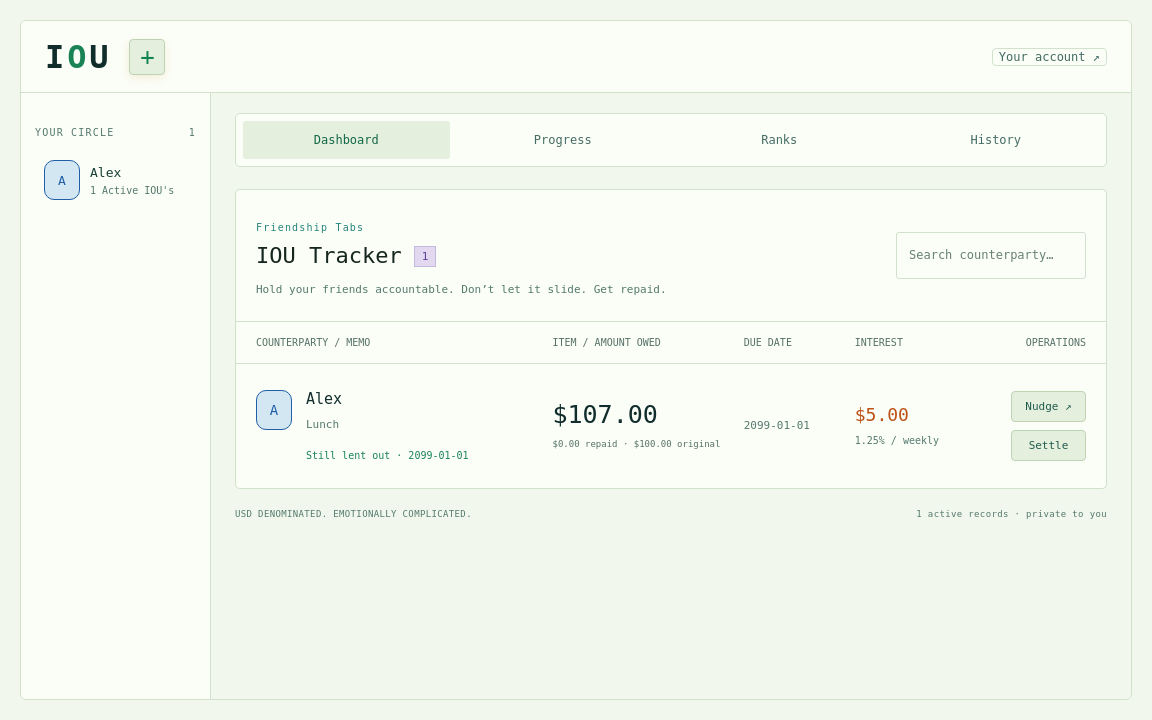
Test: keeps public/offline demos copy-only with no email API requests
Click the button "Nudge ↗" at point(1048, 406), box [1011, 391, 1086, 422]
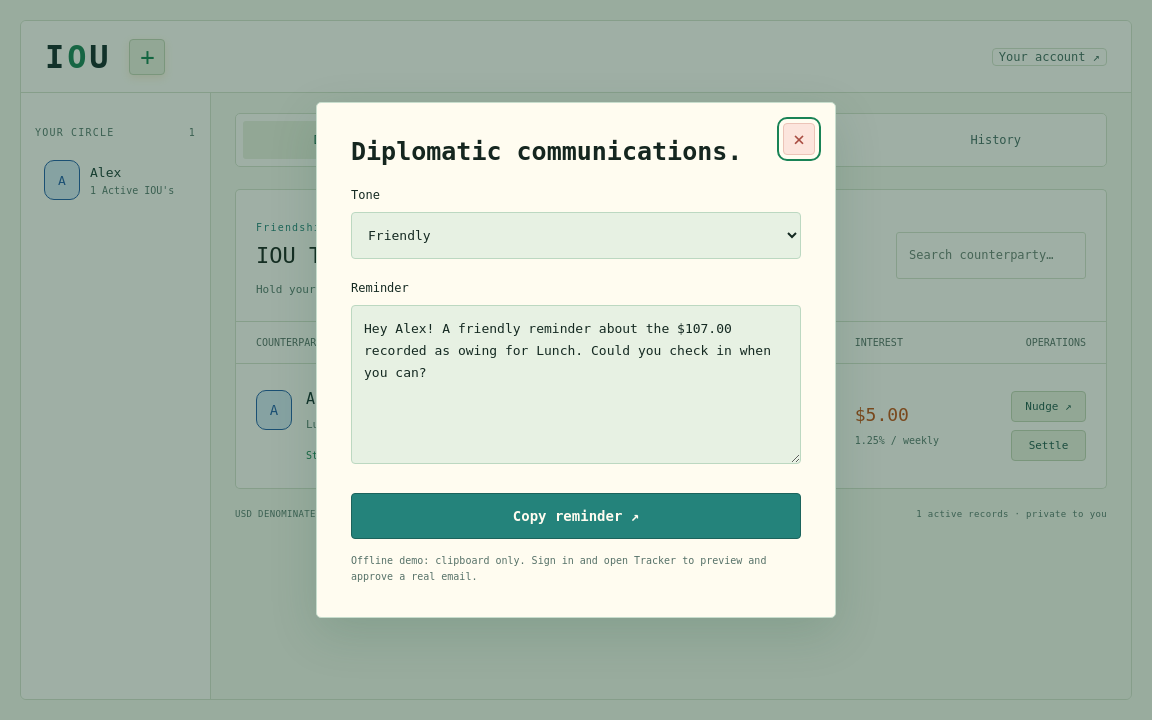
Check: the button "Copy reminder ↗" is shown, box [351, 493, 801, 539]
